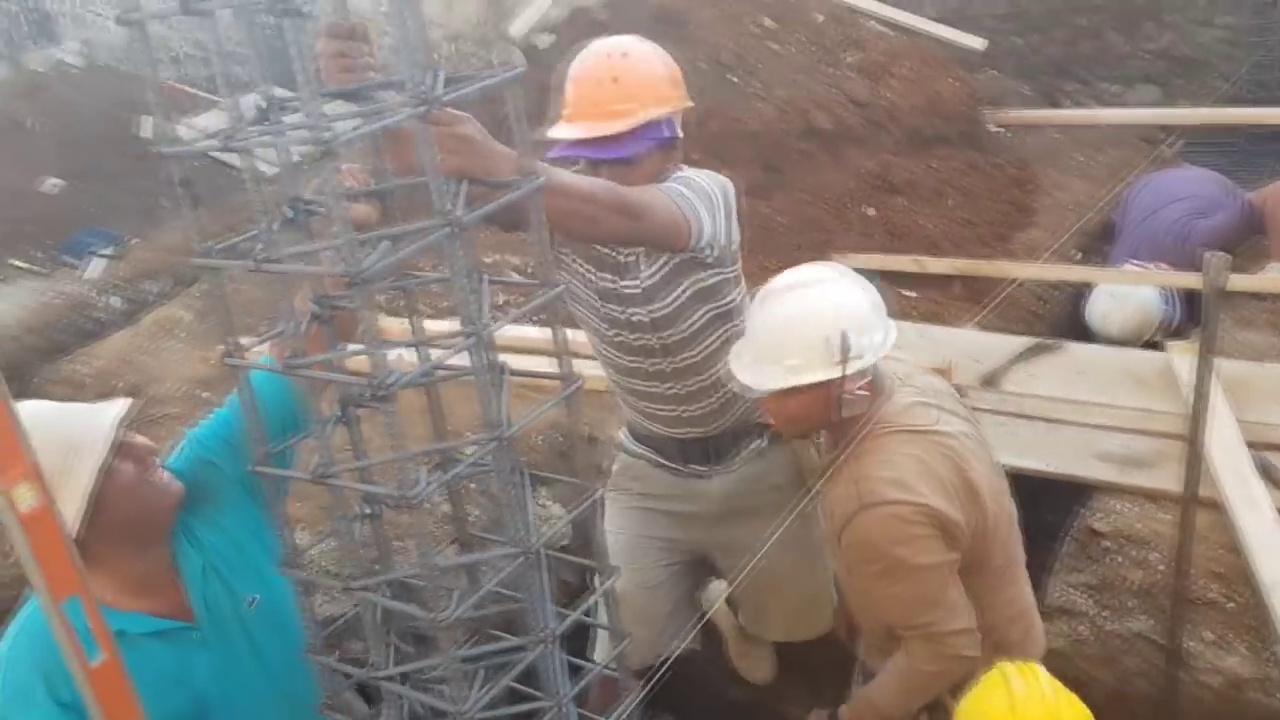helmet: (743, 265, 895, 413), (551, 32, 695, 146), (945, 660, 1094, 720), (1086, 263, 1164, 360)
helmet-off: (2, 381, 190, 636)
helmet-on: (722, 262, 898, 448), (546, 23, 697, 196), (1077, 254, 1202, 363)
person: (317, 8, 834, 694), (0, 159, 388, 719), (722, 260, 1052, 719), (1082, 162, 1280, 360)
